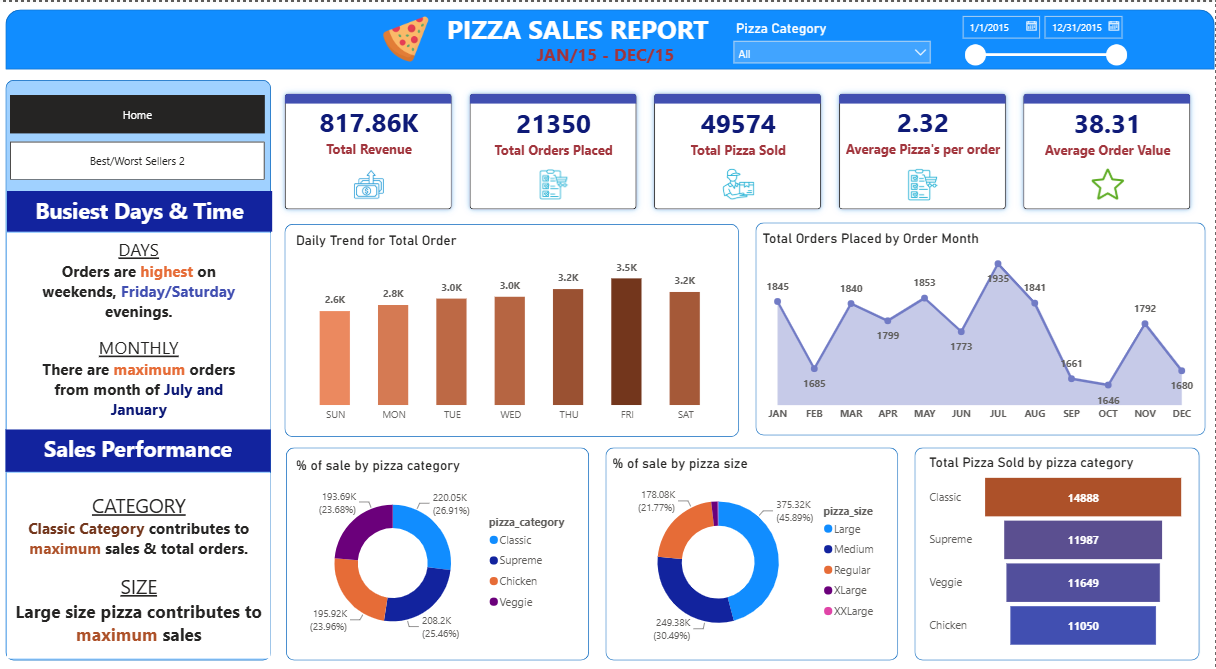

Layout of this report page (visuals, bound fields, positions):
{"tool":"powerbi","page":{"name":"Home","canvas":[1500,820],"ordinal":0},"visuals":[{"type":"cardVisual","fields":{"Data":["pizza_sales.Total Revenue","pizza_sales.Total Orders Placed","pizza_sales.Total Pizza Sold","pizza_sales.Average Pizza's per order","pizza_sales.Average Order Value"]},"box":[340,96,1150,176],"z":0},{"type":"shape","box":[12.9,9.2,1486.4,73.8],"z":1000},{"type":"textbox","box":[516,6,400,54],"z":2000},{"type":"textbox","box":[643,44,213.9,42.4],"z":3000},{"type":"image","box":[442,16,124,58],"z":4000},{"type":"shape","box":[355.9,272.9,558.8,261.9],"z":5000},{"type":"columnChart","title":"Daily Trend for Total Order","fields":{"Category":["pizza_sales.Order Day"],"Y":["pizza_sales.Total Orders Placed"]},"box":[366,282,537,243],"z":6000},{"type":"shape","box":[935,271.1,553.2,261.9],"z":7000},{"type":"areaChart","fields":{"Category":["pizza_sales.Order Month"],"Y":["pizza_sales.Total Orders Placed"]},"box":[939,280,543,244],"z":8000},{"type":"shape","box":[357.8,547.7,372.5,261.9],"z":9000},{"type":"shape","box":[750.6,547.7,359.6,261.9],"z":10000},{"type":"shape","box":[1130.4,547.7,350.4,261.9],"z":11000},{"type":"donutChart","title":"% of sale by pizza category","fields":{"Category":["pizza_sales.pizza_category"],"Y":["pizza_sales.Total Revenue"]},"box":[365.1,558.8,356,242],"z":12000},{"type":"donutChart","title":"% of sale by pizza size","fields":{"Category":["pizza_sales.pizza_size"],"Y":["pizza_sales.Total Revenue"]},"box":[755,556.9,349,243.4],"z":13000},{"type":"funnel","title":"Total Pizza Sold by pizza category","fields":{"Category":["pizza_sales.pizza_category"],"Y":["pizza_sales.Total Pizza Sold"]},"box":[1143.4,556,324.6,245],"z":14000},{"type":"shape","box":[12.9,95.9,326.4,713.7],"z":15000},{"type":"textbox","box":[14,232,326,50],"z":16000},{"type":"textbox","box":[14,284,324,242],"z":17000},{"type":"textbox","box":[12,526,326,52],"z":18000},{"type":"textbox","box":[14,579,324,228],"z":19000},{"type":"slicer","fields":{"Values":["pizza_sales.pizza_category"]},"box":[898,16,262,68],"z":20000},{"type":"slicer","fields":{"Values":["pizza_sales.order_date"]},"box":[1176.5,7.4,223.1,77.5],"z":21000},{"type":"pageNavigator","box":[19,115,313,105],"z":22000}]}

Visuals, with their boxes in screenshot pixels (x1, y1, x2, y2), scaled from the page's 1500x820 canvas onto the 1216x669 screenshot:
cardVisual - pizza_sales.Total Revenue x pizza_sales.Total Orders Placed: Rect(276, 78, 1208, 222)
shape: Rect(10, 8, 1215, 68)
textbox: Rect(418, 5, 743, 49)
textbox: Rect(521, 36, 695, 70)
image: Rect(358, 13, 459, 60)
shape: Rect(289, 223, 742, 436)
"Daily Trend for Total Order" columnChart: Rect(297, 230, 732, 428)
shape: Rect(758, 221, 1206, 435)
areaChart - pizza_sales.Order Month x pizza_sales.Total Orders Placed: Rect(761, 228, 1201, 428)
shape: Rect(290, 447, 592, 661)
shape: Rect(608, 447, 900, 661)
shape: Rect(916, 447, 1200, 661)
"% of sale by pizza category" donutChart: Rect(296, 456, 585, 653)
"% of sale by pizza size" donutChart: Rect(612, 454, 895, 653)
"Total Pizza Sold by pizza category" funnel: Rect(927, 454, 1190, 653)
shape: Rect(10, 78, 275, 661)
textbox: Rect(11, 189, 276, 230)
textbox: Rect(11, 232, 274, 429)
textbox: Rect(10, 429, 274, 472)
textbox: Rect(11, 472, 274, 658)
slicer - pizza_sales.pizza_category: Rect(728, 13, 940, 69)
slicer - pizza_sales.order_date: Rect(954, 6, 1135, 69)
pageNavigator: Rect(15, 94, 269, 179)
